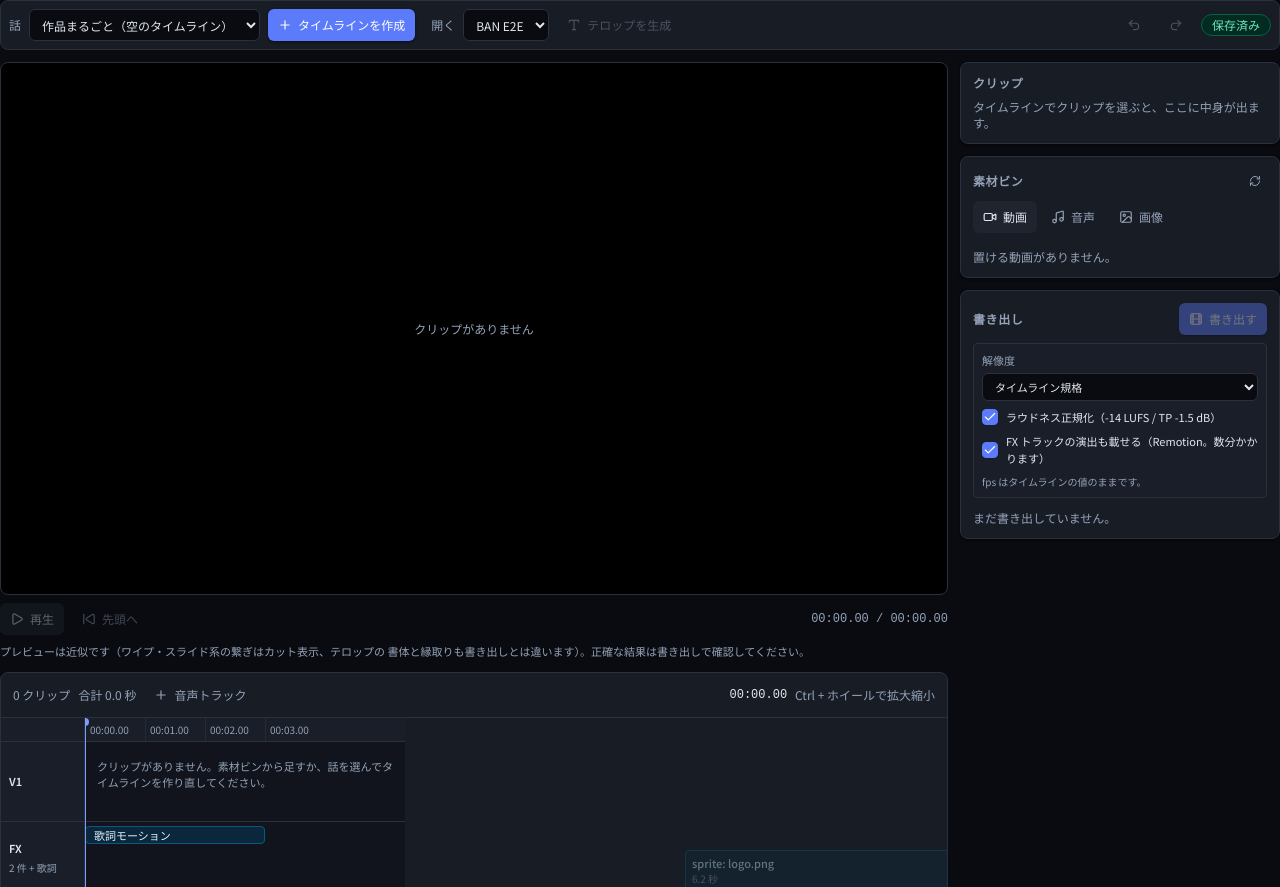
Test: 削除ボタンは lyric: null を送る（帯も消える）
Step 1. Press the mouse on the button "歌詞モーション" → (175, 835), box top-left (85, 826), bottom-right (265, 844)
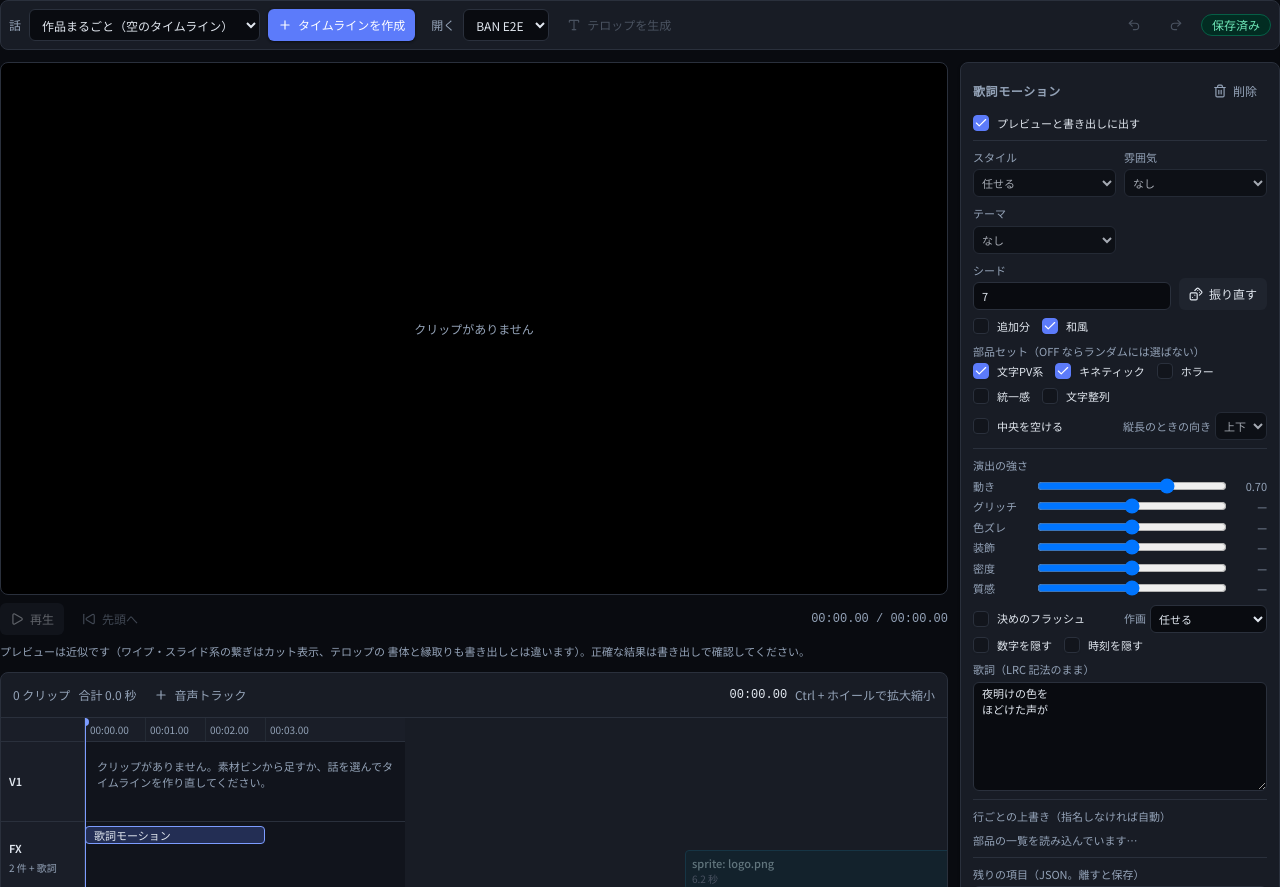
Step 2. Click the button titled "歌詞モーションを消す" → (1235, 91), box top-left (1203, 75), bottom-right (1267, 107)
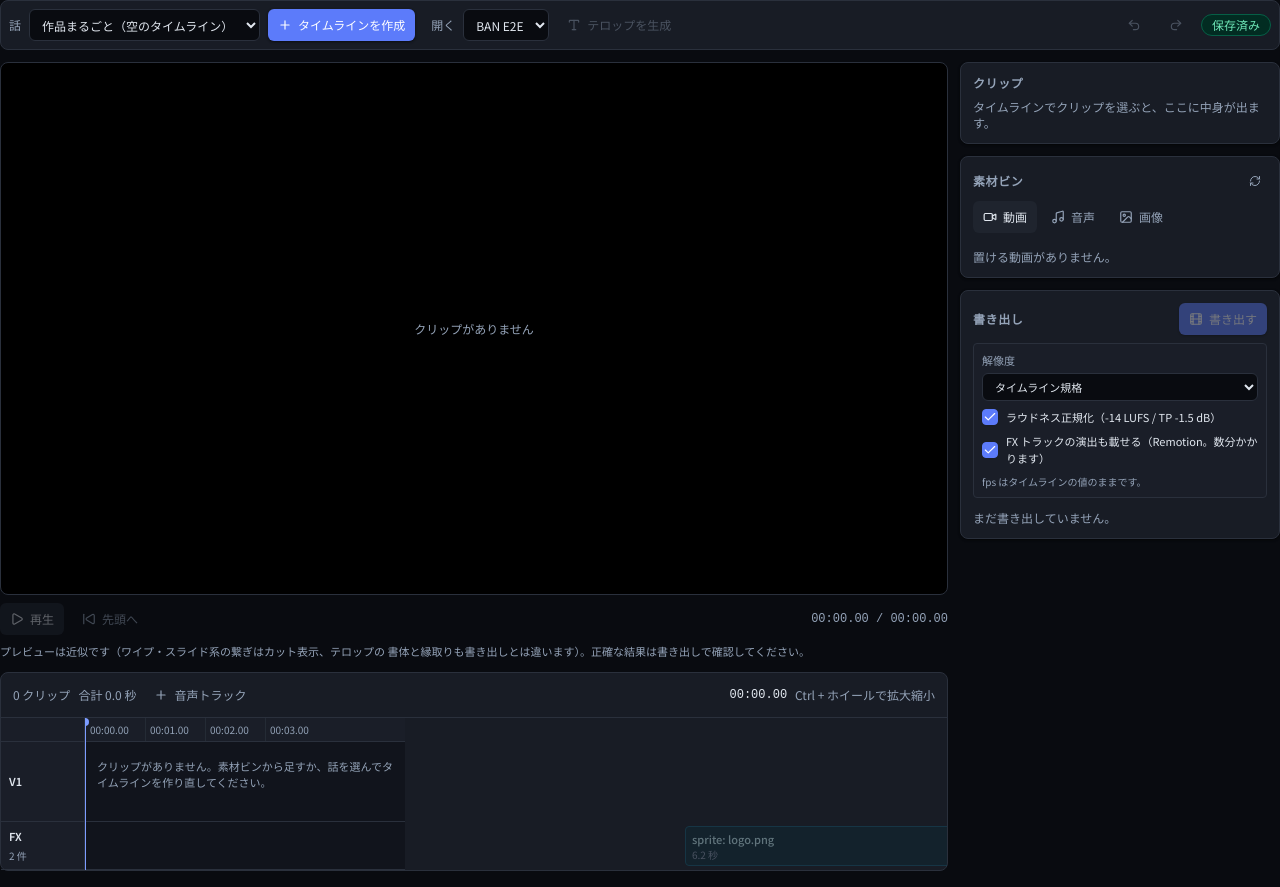
Check: the button "歌詞モーション" is gone
